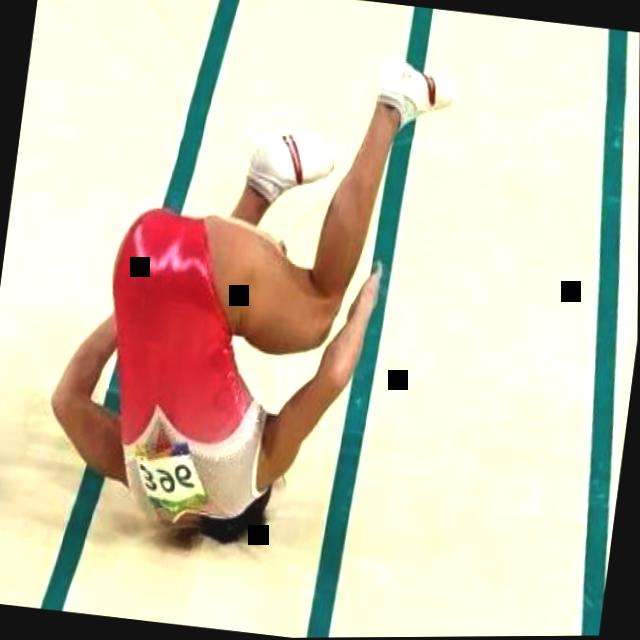Fall-Detected: (26, 0, 455, 608)
